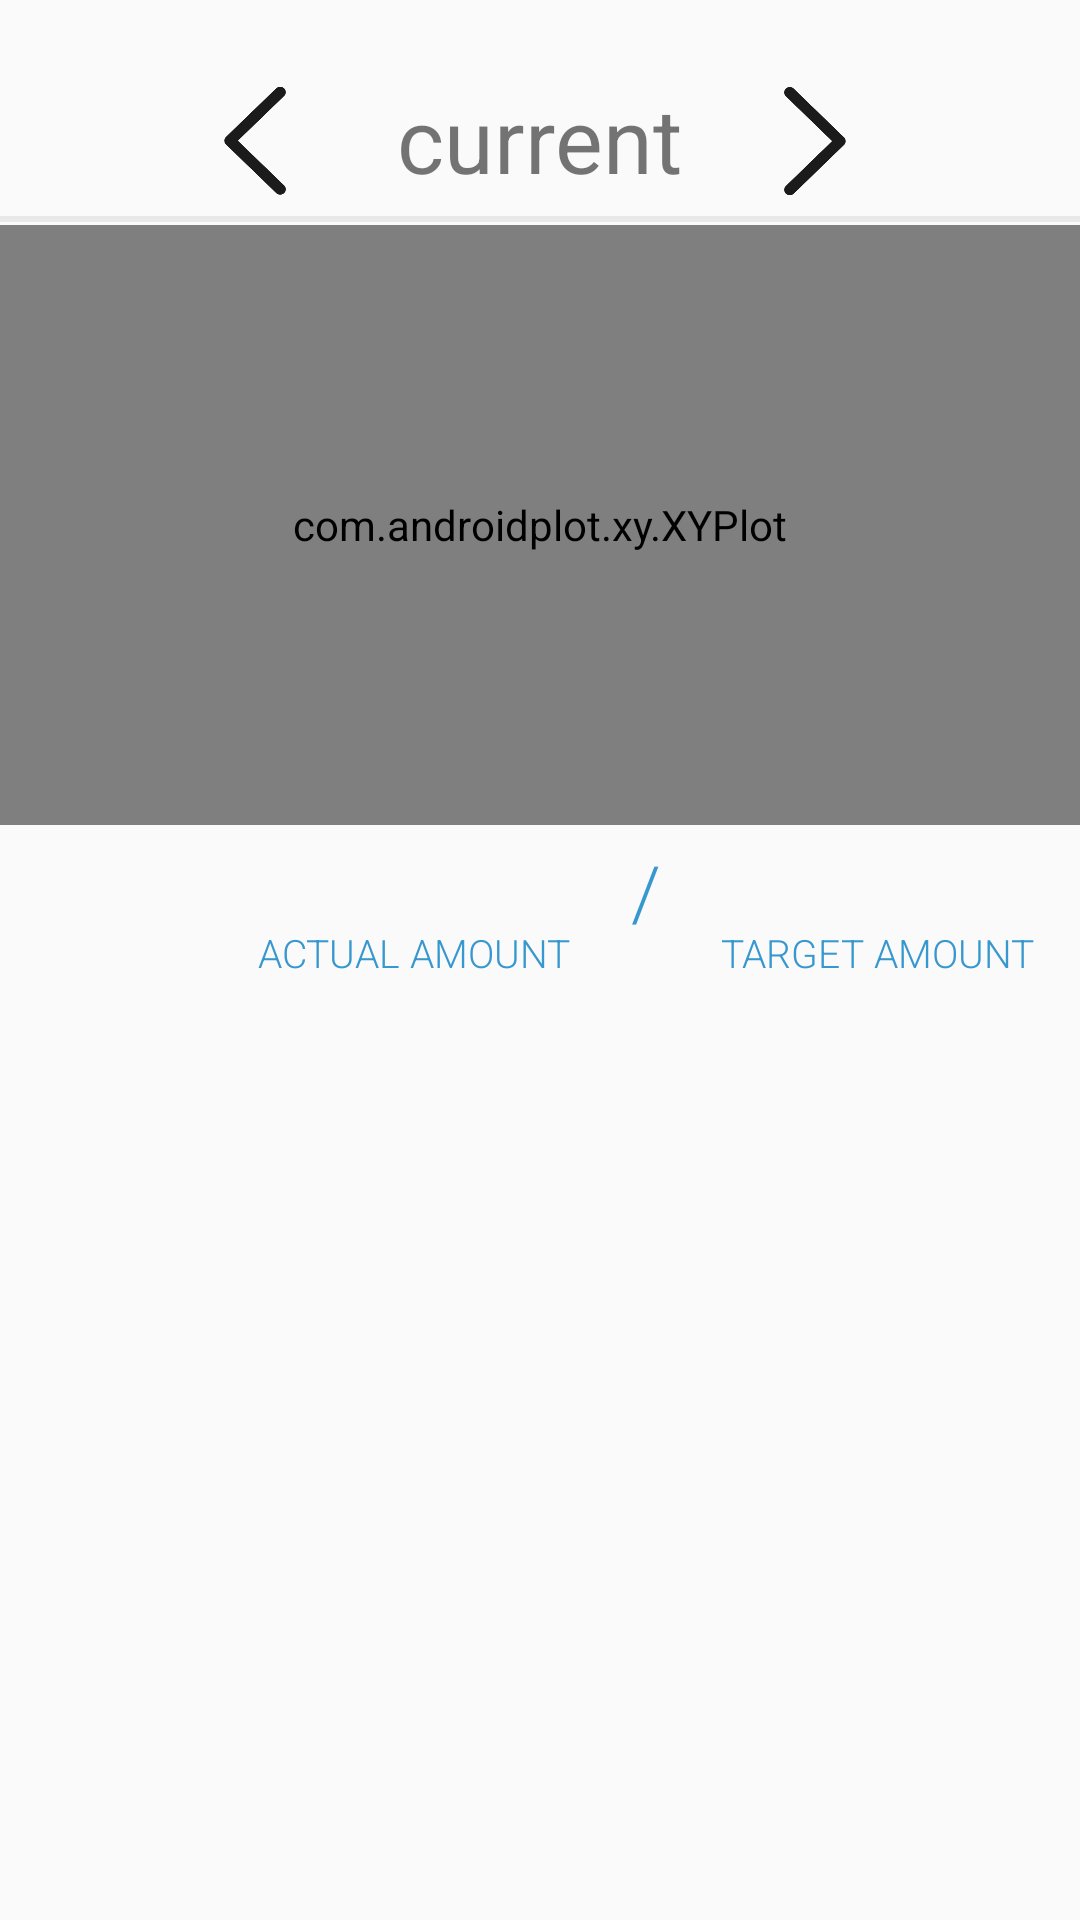

Named icons in this screenshot (1080px×1920px) and their centers, [x,y]:
left arrow: [255,141]
right arrow: [815,141]
